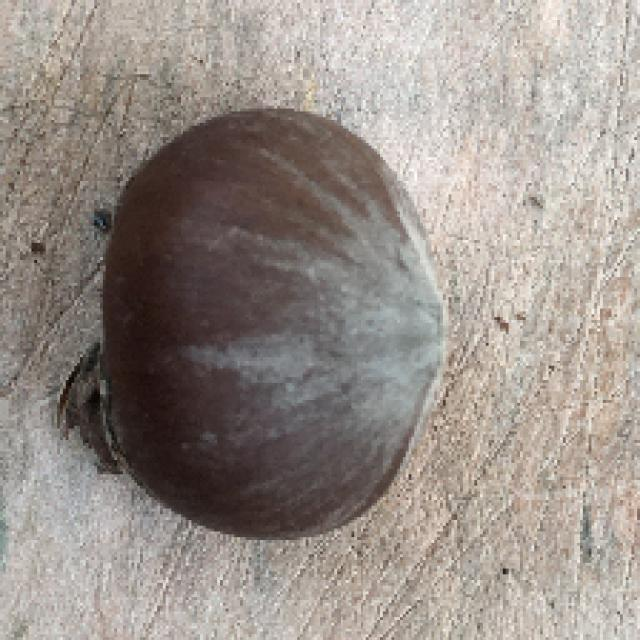damagedHazelnut: (88, 106, 452, 543)
